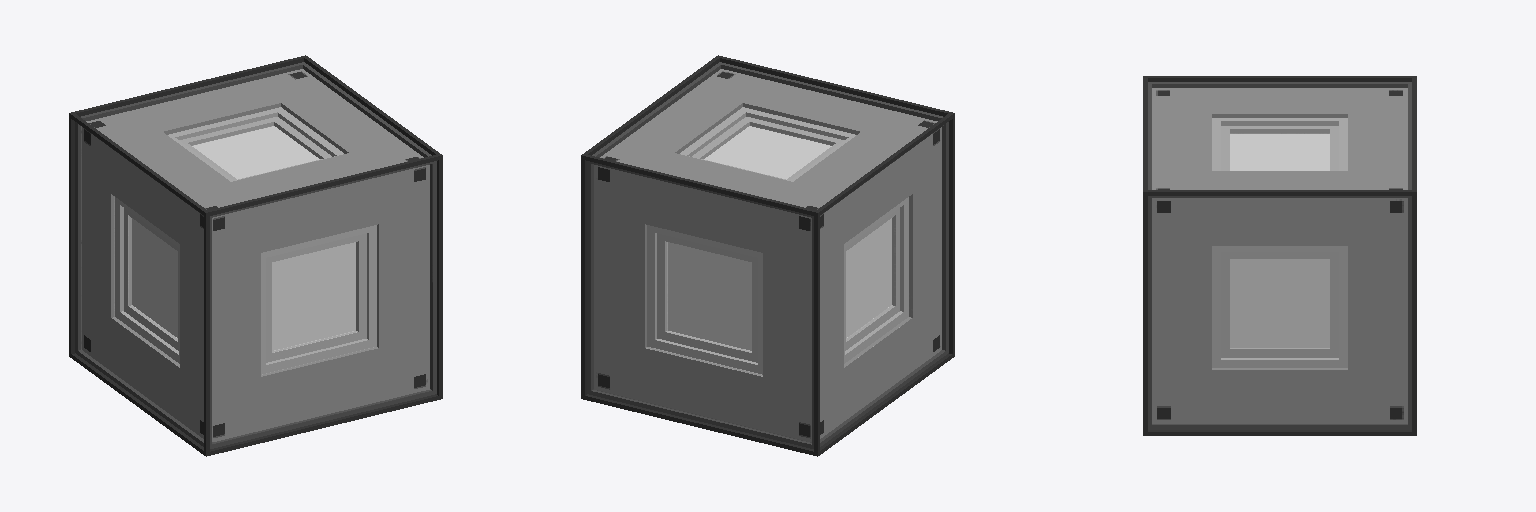
The picture shows the model from 3 angles: view 1: azimuth 30°, elevation 25°; view 2: azimuth 150°, elevation 25°; view 3: azimuth 270°, elevation 25°; orthographic projection.
Parts seen in each view (by area): view 1: ObjObject.001; view 2: ObjObject.001; view 3: ObjObject.001.
Part boxes in pixels (left/top/right/bottom): ObjObject.001: left=69, top=55, right=442, bottom=456; ObjObject.001: left=581, top=55, right=954, bottom=456; ObjObject.001: left=1143, top=76, right=1416, bottom=435.
Bounding box in the file's own units: 6 × 5.9 × 6.
1 materials, 1 textured.